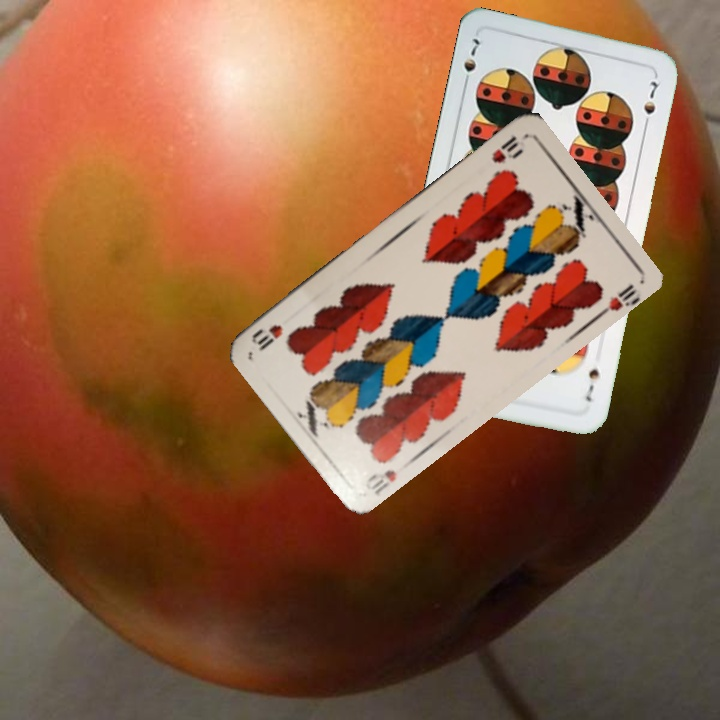H10: (487, 132, 524, 166), (361, 465, 399, 498)
S7: (459, 34, 486, 90), (581, 360, 602, 404)
